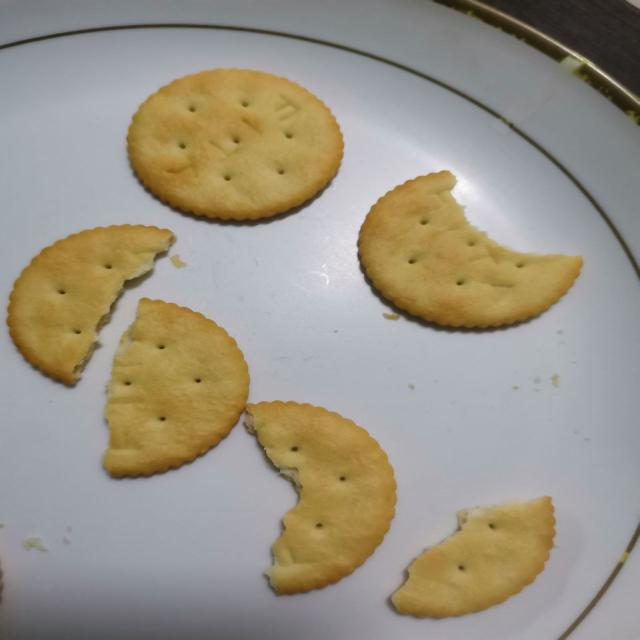broken biscuit: (355, 168, 584, 330), (241, 398, 398, 596), (380, 478, 570, 624), (100, 296, 250, 479), (14, 214, 168, 383)
intact biscuit: (124, 66, 345, 222)
